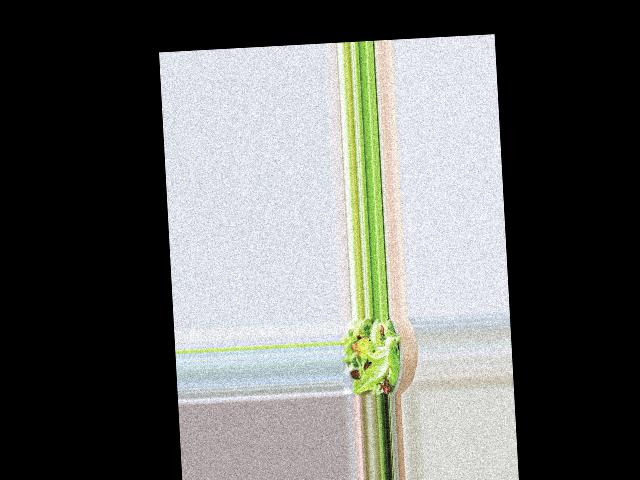lettuce: (343, 320, 401, 389)
